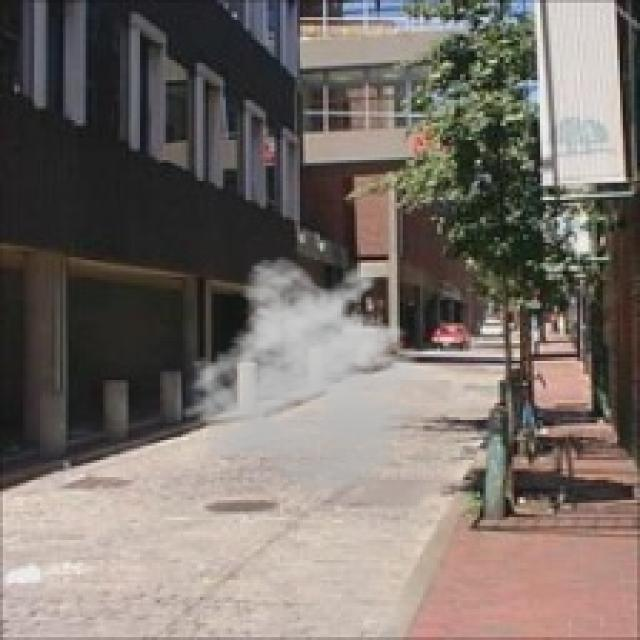smoke: (180, 255, 451, 494)
